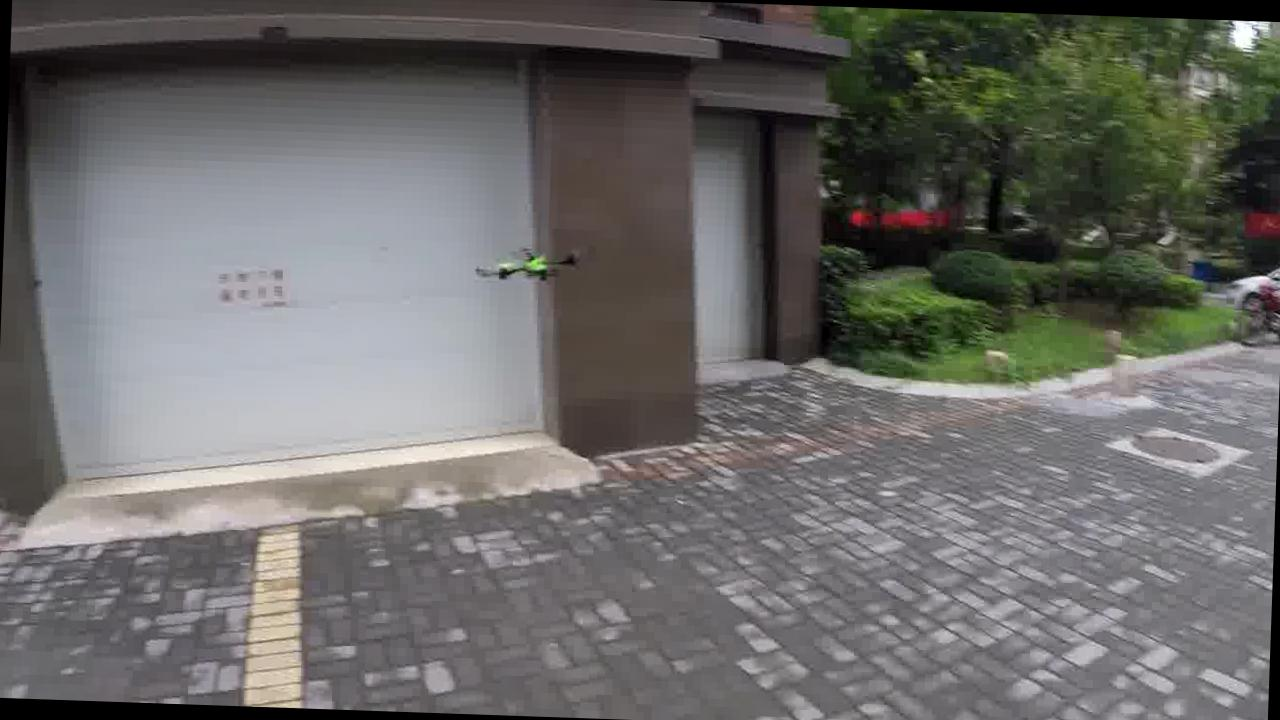drone: (468, 231, 590, 286)
